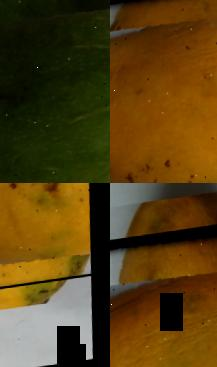Ripe: (110, 0, 217, 183), (110, 218, 217, 367), (0, 183, 106, 300)
Unripe: (0, 0, 110, 183)
